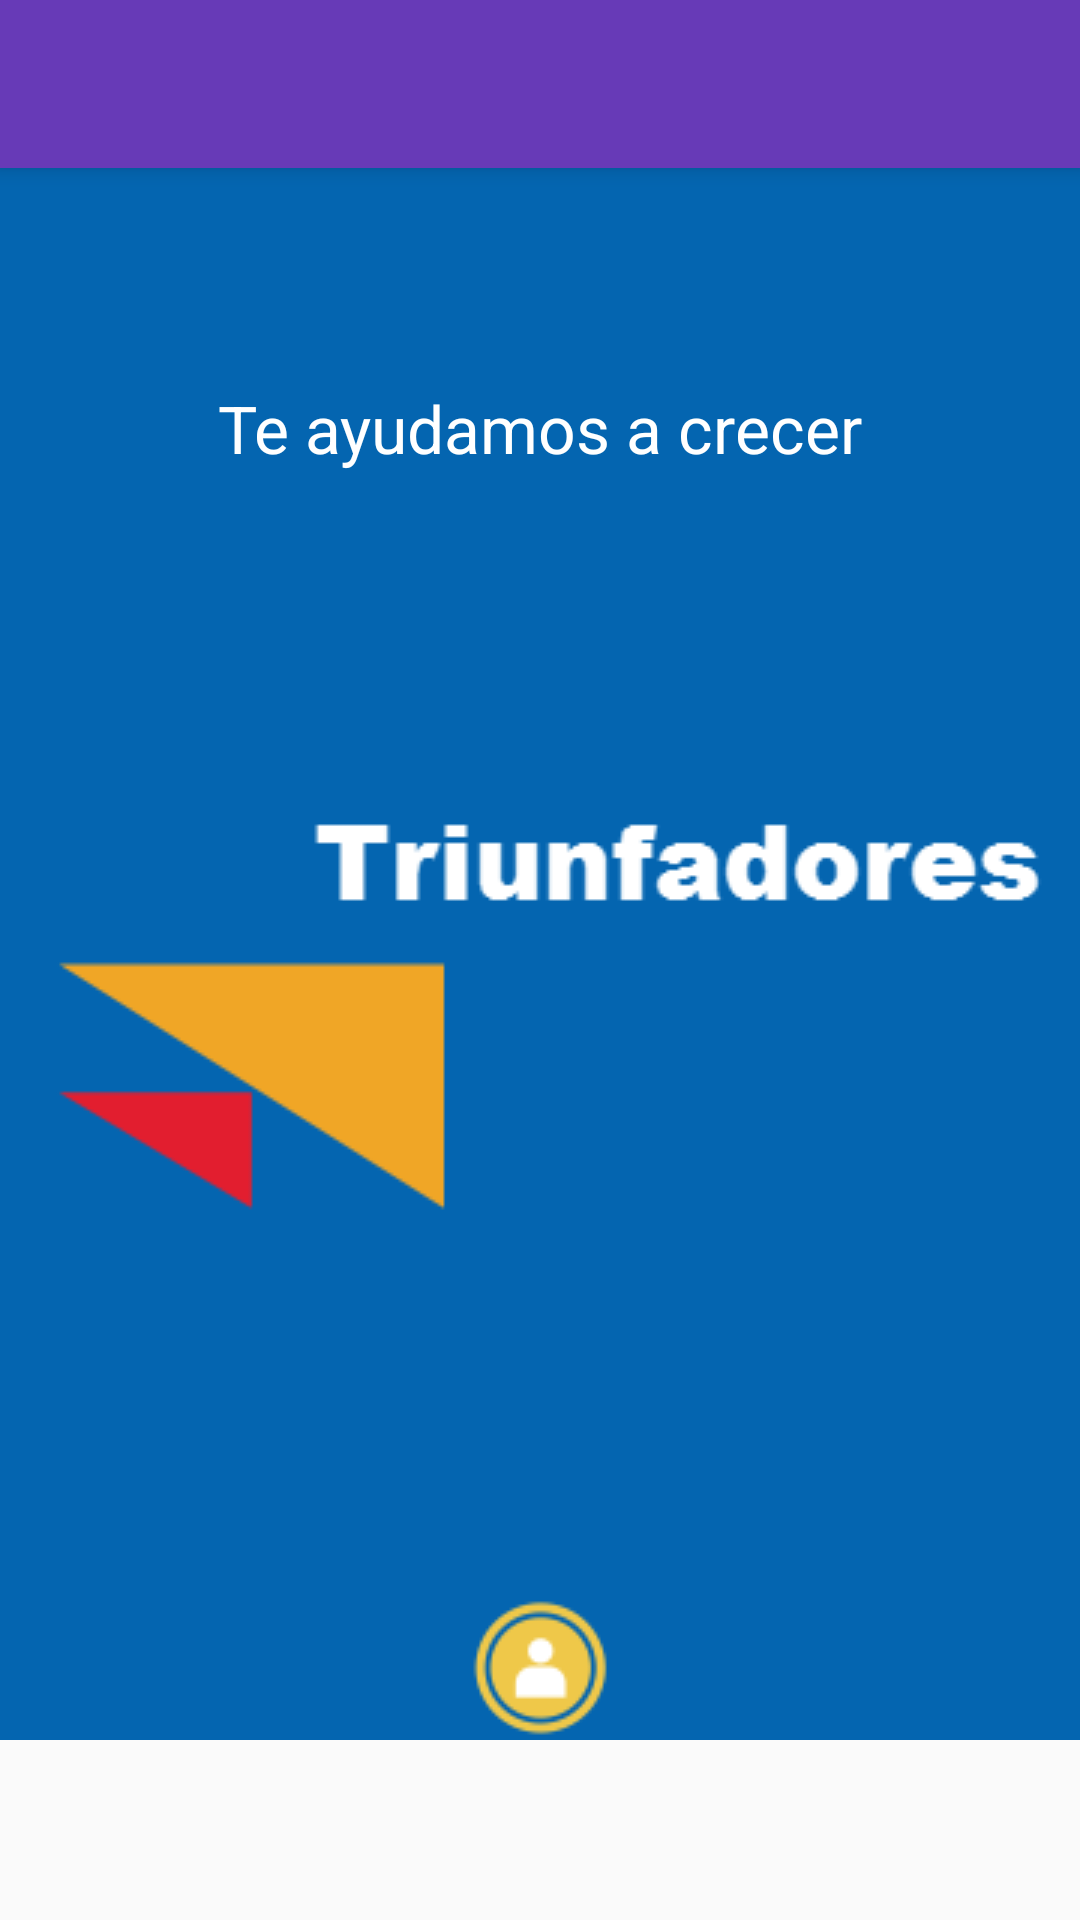

Named icons in this screenshot (1080x1920) and their bounding boxes, (x1, y1, x2, y2):
login: (473, 1601, 607, 1735)
